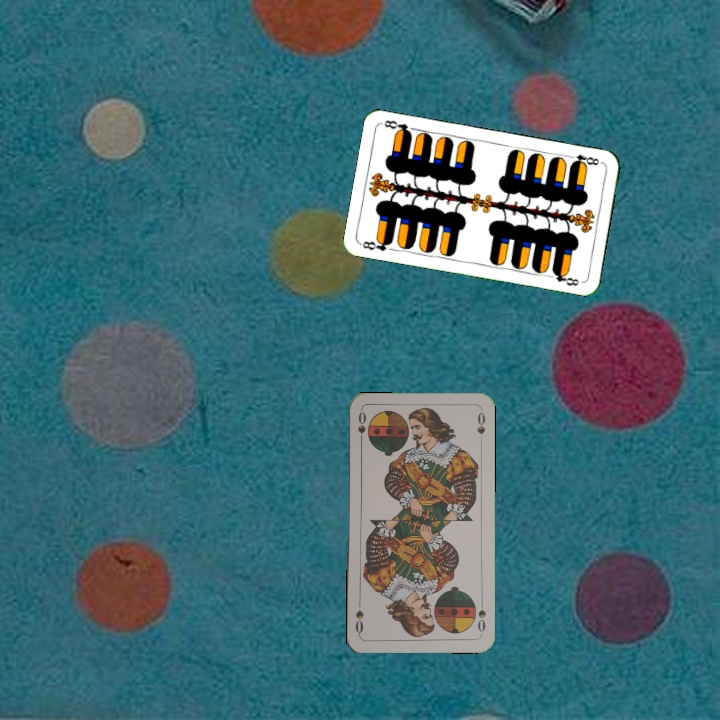E8: (564, 150, 604, 169), (357, 235, 395, 254)
SO: (354, 407, 368, 448), (474, 605, 488, 635)
